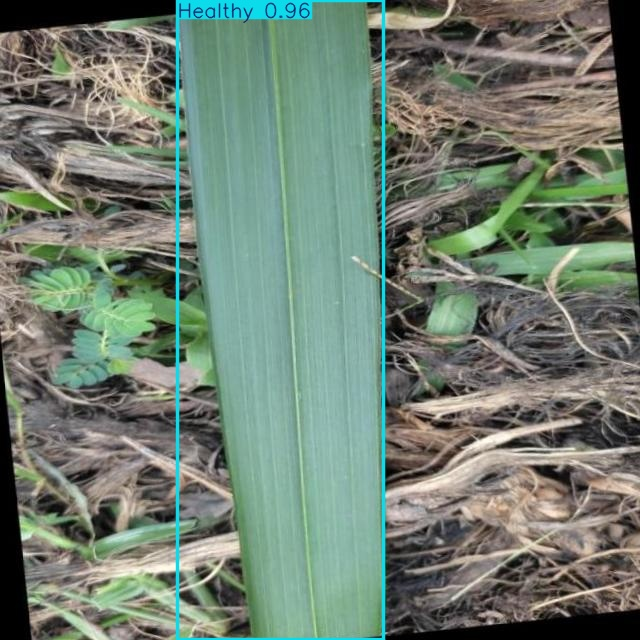Healthy: (178, 0, 384, 640)
